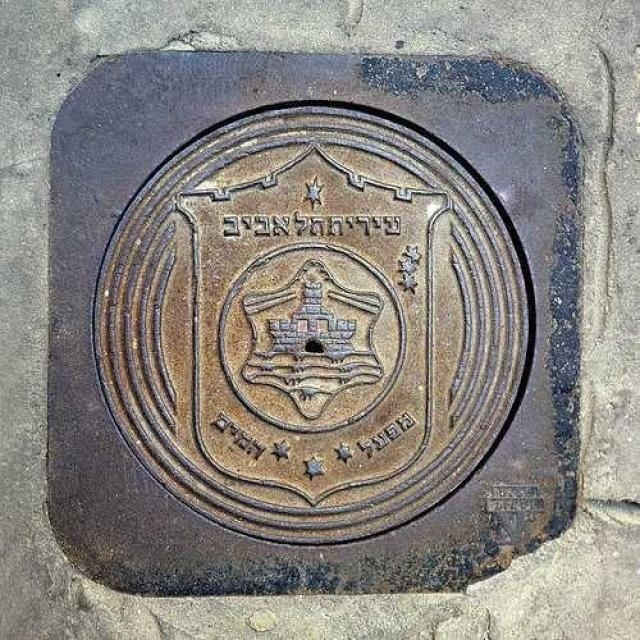manhole: (95, 106, 529, 543)
